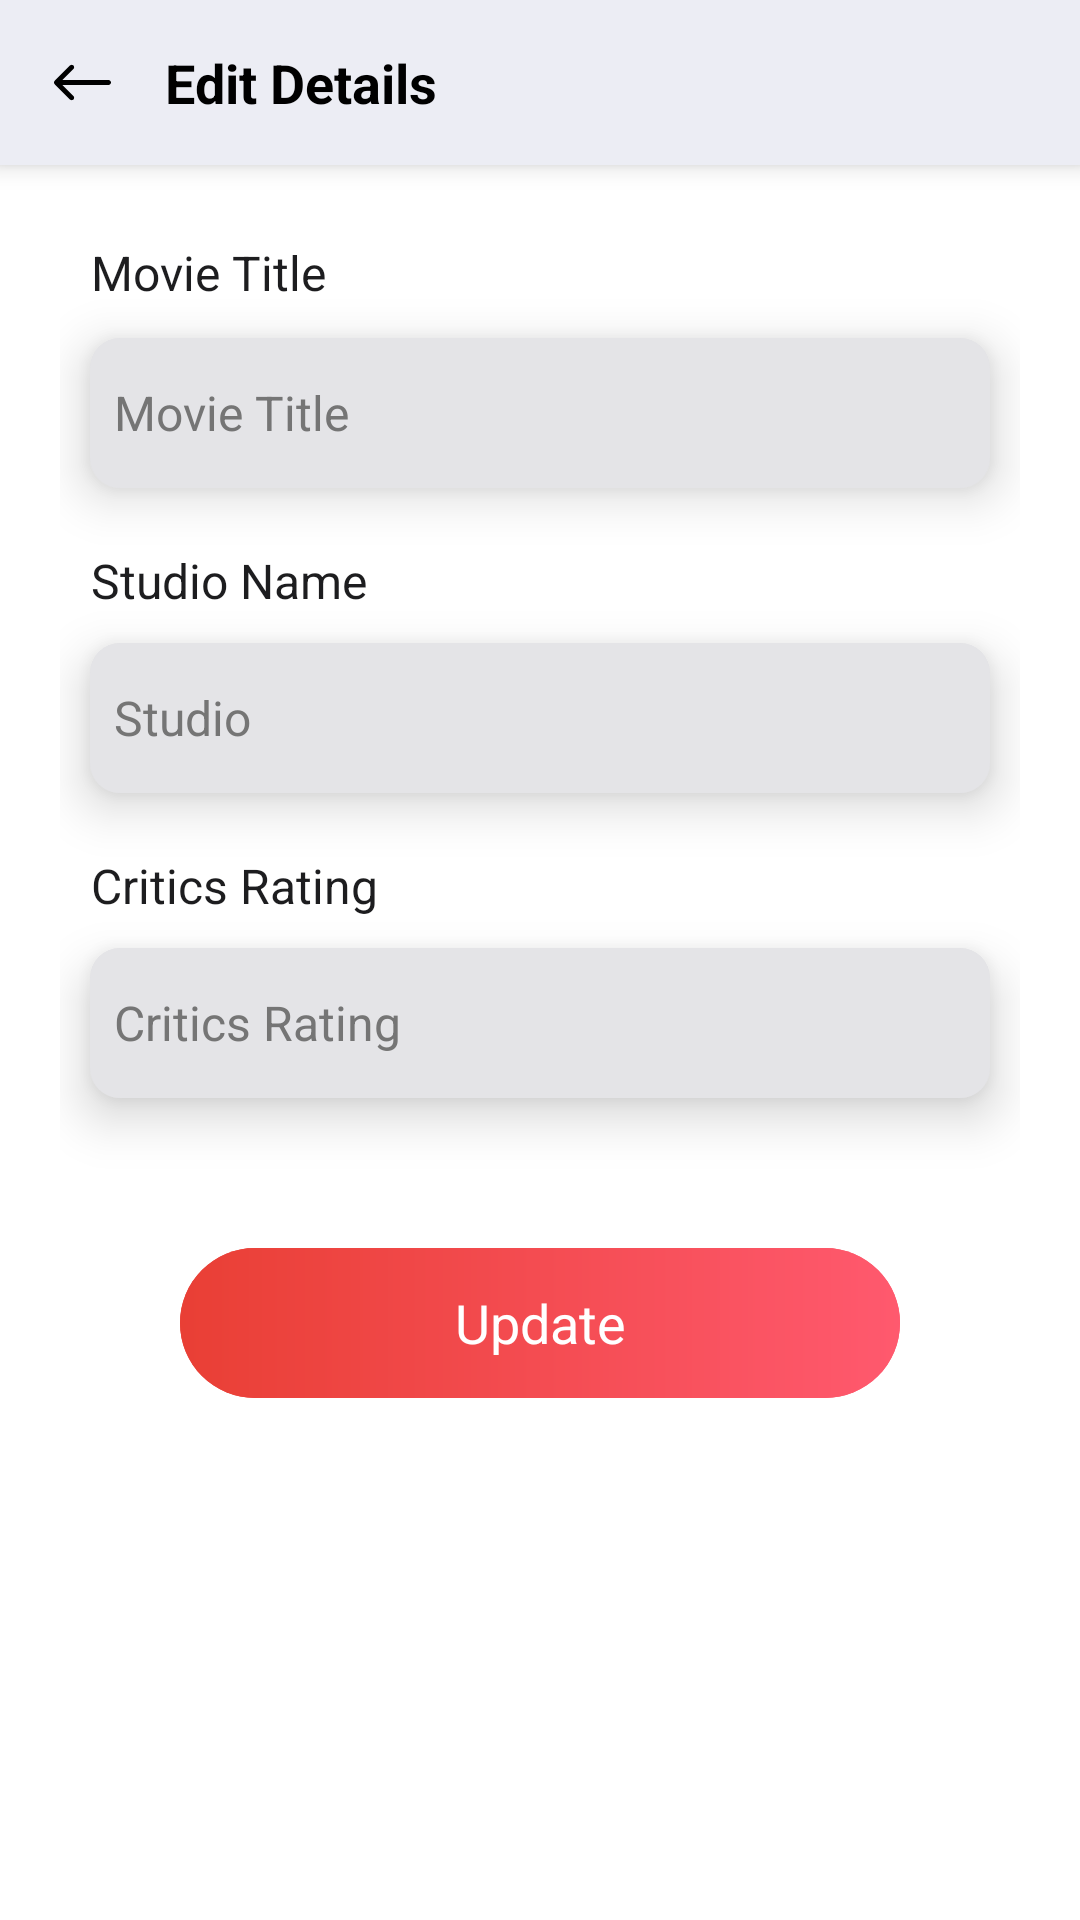

Point at icon controls on the screen. Image size 1080 × 1920, points as [x,y].
back arrow: [82,82]
